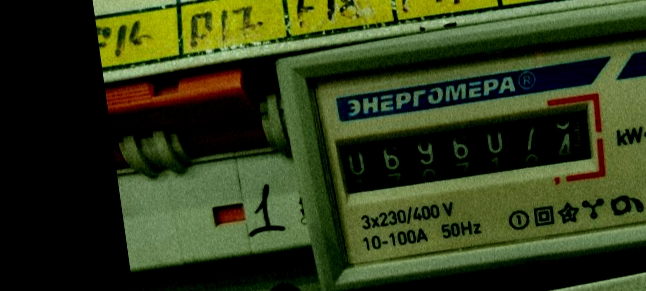0: (347, 147, 371, 180), (486, 125, 509, 157)
4: (554, 132, 577, 162)
6: (380, 141, 406, 174), (451, 132, 474, 162)
7: (521, 121, 542, 153)
9: (417, 138, 439, 169)
screen: (319, 87, 614, 216)
